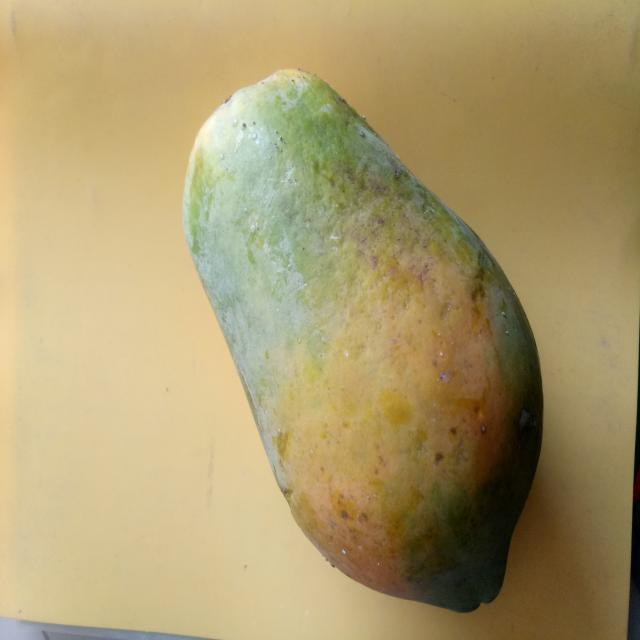Pepaya rippen: (166, 64, 552, 620)
